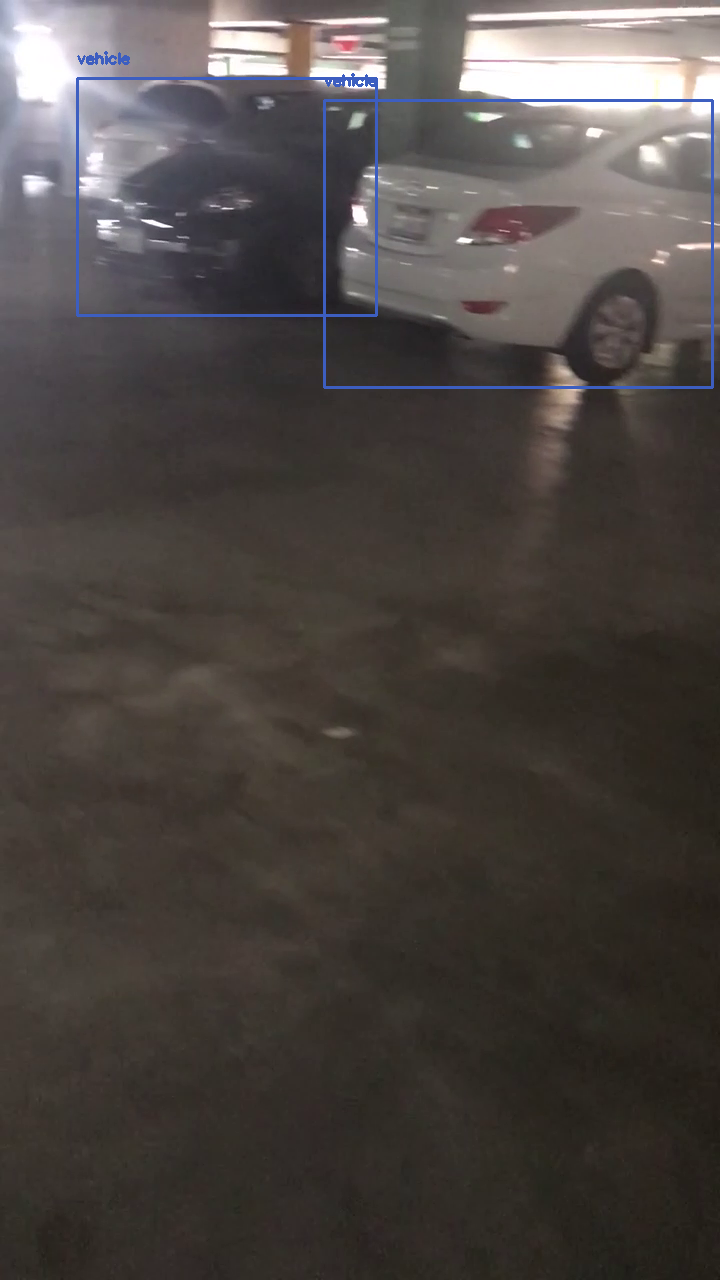vehicle: (324, 100, 712, 387), (77, 78, 376, 315)
